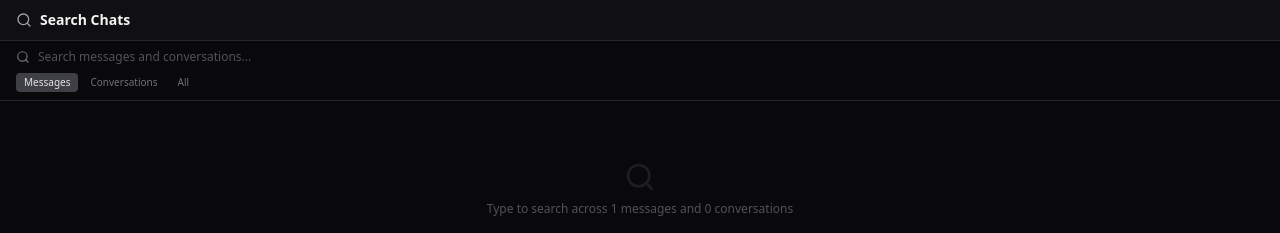
Test: ChatSearchPanel › shows empty state when no matches
The width and height of the screenshot is (1280, 233).
In the field with placeholder "Search messages and conversations...": (651,57) [38, 49, 1264, 65], type "nonexistent"
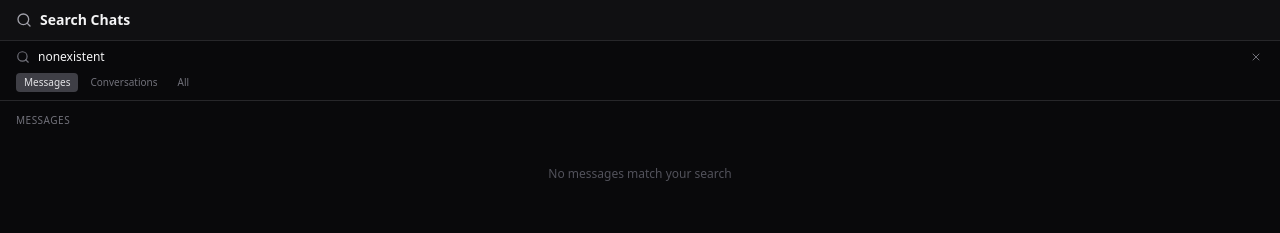
Now the text "No messages match your search" is shown, box [548, 165, 732, 182]
